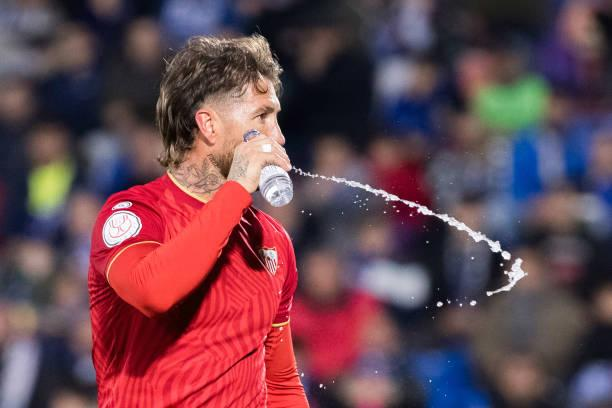Spitting: (145, 14, 339, 213)
